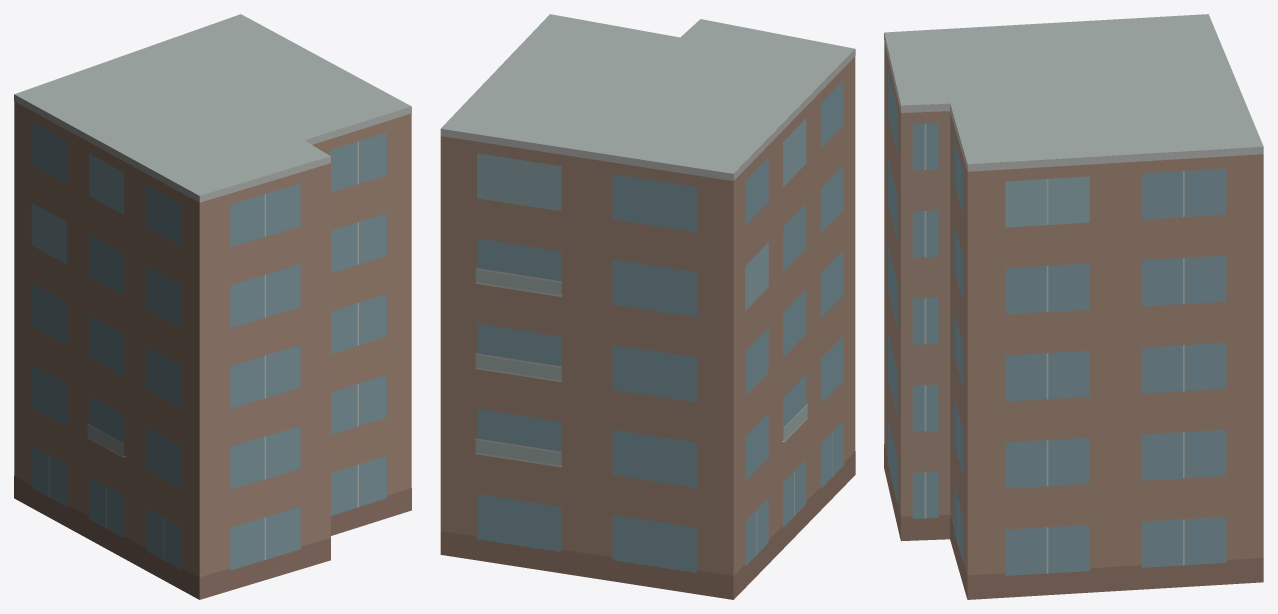
Rendered from survey-upis-33026296.glb.
3 views of the same model, side by side, from view 1: azimuth 30°, elevation 25°; view 2: azimuth 150°, elevation 25°; view 3: azimuth 270°, elevation 25° (orthographic). The views are drawn at different scales.
Parts seen in each view (by area): view 1: survey-upis-33026296.tmp; view 2: survey-upis-33026296.tmp; view 3: survey-upis-33026296.tmp.
Part boxes in pixels (<box>): survey-upis-33026296.tmp: <box>14,14,411,599</box>; survey-upis-33026296.tmp: <box>440,14,855,599</box>; survey-upis-33026296.tmp: <box>884,14,1263,599</box>.
Size of the model in its own units: 10.6 by 14.3 by 11.31.
